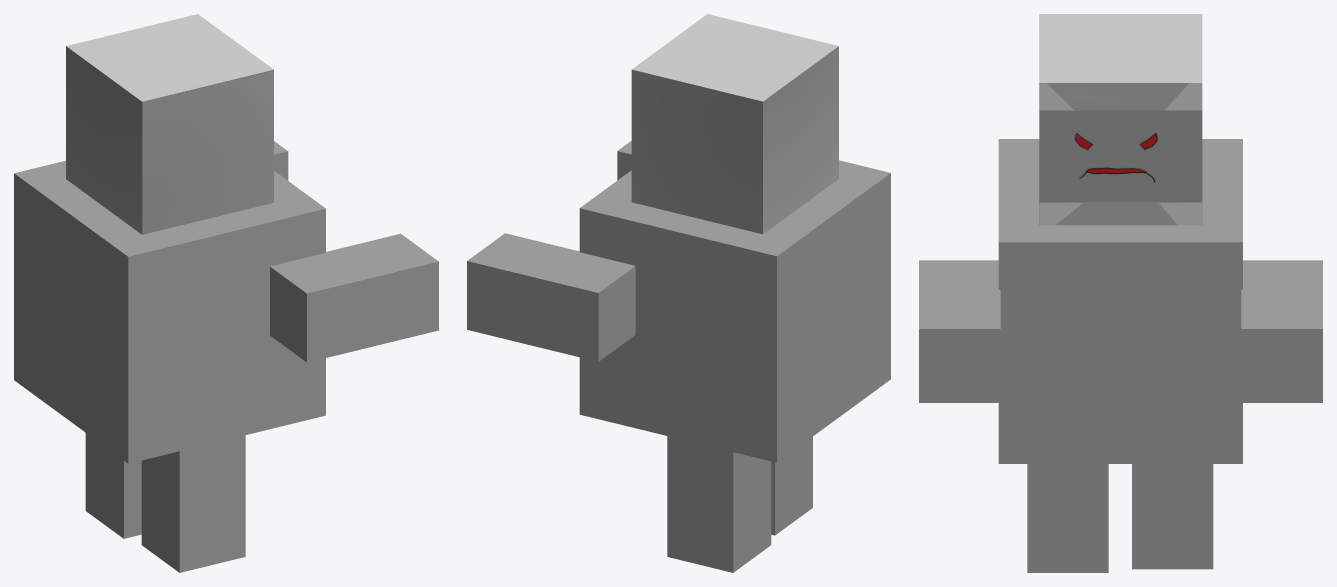
Rendered from enemy.fbx.
3 views of the same model, side by side, from view 1: azimuth 30°, elevation 25°; view 2: azimuth 150°, elevation 25°; view 3: azimuth 270°, elevation 25° (orthographic). The views are drawn at different scales.
Visible parts, largest first — view 1: pCube36, pCube35, pCube40, pCube38, pCube43; view 2: pCube36, pCube35, pCube39, pCube43, pCube38; view 3: pCube36, pCube35, pCube39, pCube40, pCube38, pCube43.
Part boxes in pixels (bbox=[...]): pCube36: bbox=[14, 160, 325, 463]; pCube35: bbox=[66, 14, 273, 234]; pCube40: bbox=[270, 233, 438, 362]; pCube38: bbox=[141, 435, 245, 572]; pCube43: bbox=[85, 433, 141, 538]; pCube36: bbox=[579, 160, 890, 462]; pCube35: bbox=[631, 14, 838, 234]; pCube39: bbox=[467, 233, 635, 361]; pCube43: bbox=[667, 436, 771, 572]; pCube38: bbox=[771, 437, 812, 535]; pCube36: bbox=[998, 139, 1242, 463]; pCube35: bbox=[1039, 14, 1202, 225]; pCube39: bbox=[1241, 260, 1322, 402]; pCube40: bbox=[919, 260, 1000, 402]; pCube38: bbox=[1027, 464, 1108, 572]; pCube43: bbox=[1132, 464, 1213, 569].
Size of the model in its own units: 2.07 by 3.44 by 2.48.
Materials: 4 (1 with a texture image).
